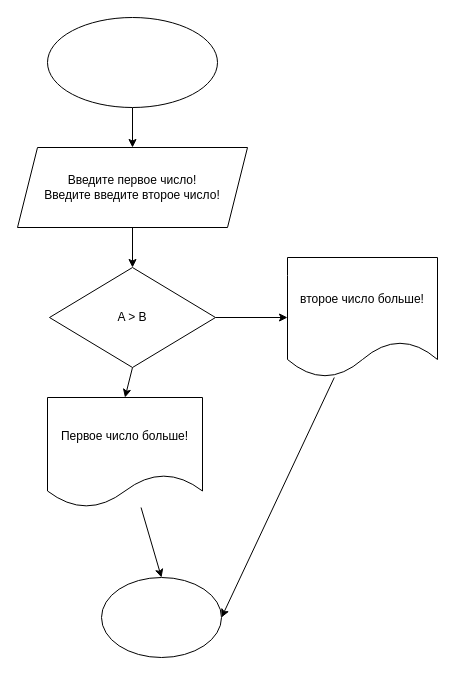
Some shapes in this 455 by 675 pixel diagram are drawn without their labels. Each missing label, with the centre of its shape:
"END" goes at [161,617].
"start" goes at [132,62].
